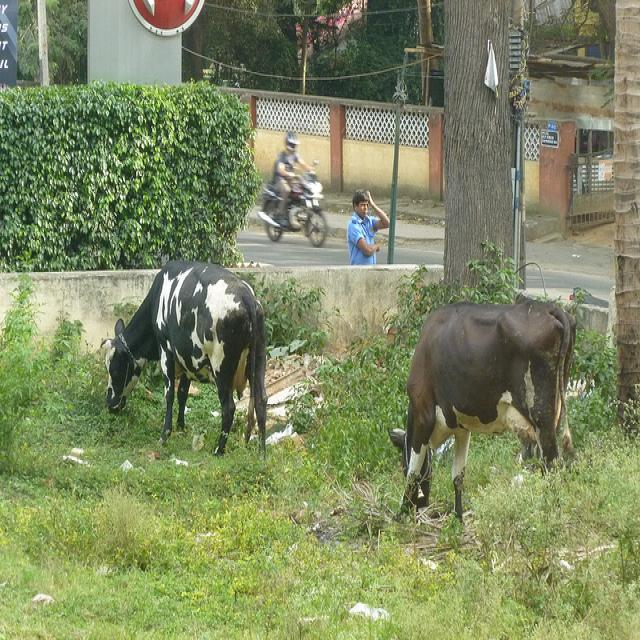motor: (258, 158, 327, 248)
